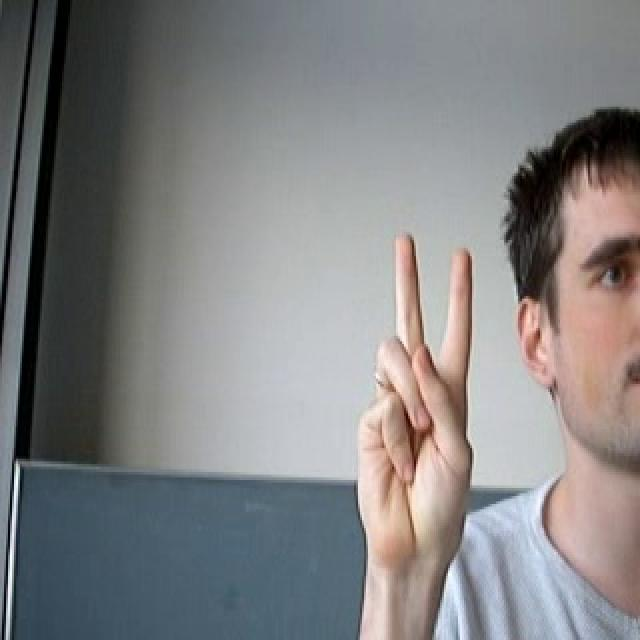V: (302, 209, 509, 600)
